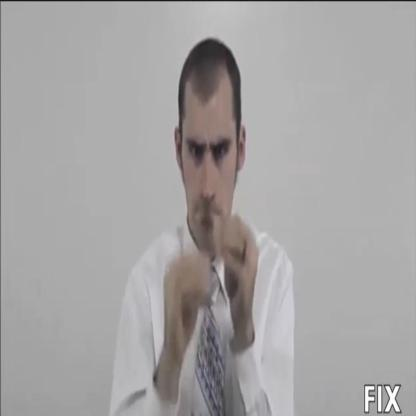Fix: (151, 186, 266, 372)
